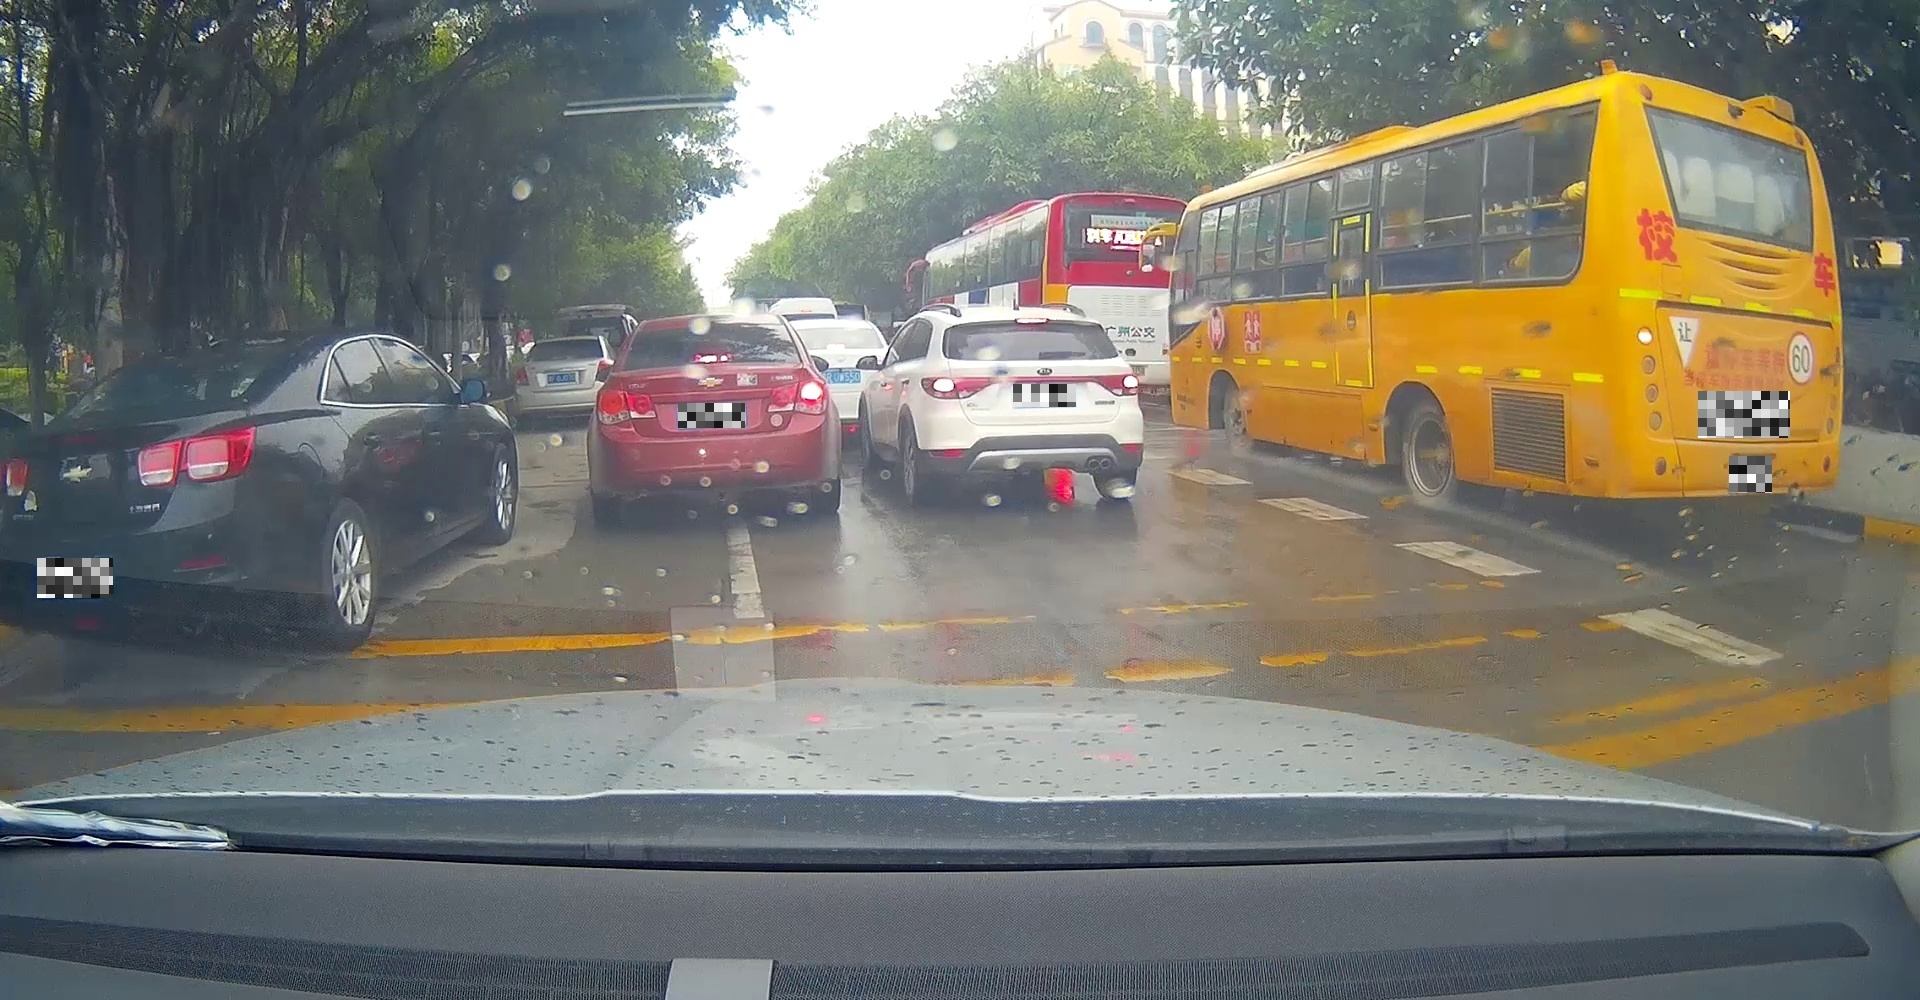L_light: (1636, 325, 1663, 431), (596, 390, 657, 426), (921, 376, 992, 401), (0, 458, 27, 497)
R_light: (136, 426, 257, 487), (766, 377, 830, 416), (1827, 346, 1843, 434), (1096, 373, 1138, 396)
T_light: (1718, 217, 1757, 234), (203, 348, 234, 359), (693, 354, 731, 363), (1015, 317, 1048, 325)
day-brake: (921, 306, 1143, 504)
day-left: (1618, 72, 1844, 511)
day-no: (0, 330, 307, 648)
day-right: (587, 313, 843, 524)
plate_1: (37, 558, 113, 598)
plate_2: (678, 404, 745, 428)
plate_3: (1013, 385, 1076, 407)
plate_4: (1698, 391, 1790, 438)
plate_5: (1730, 456, 1771, 492)
